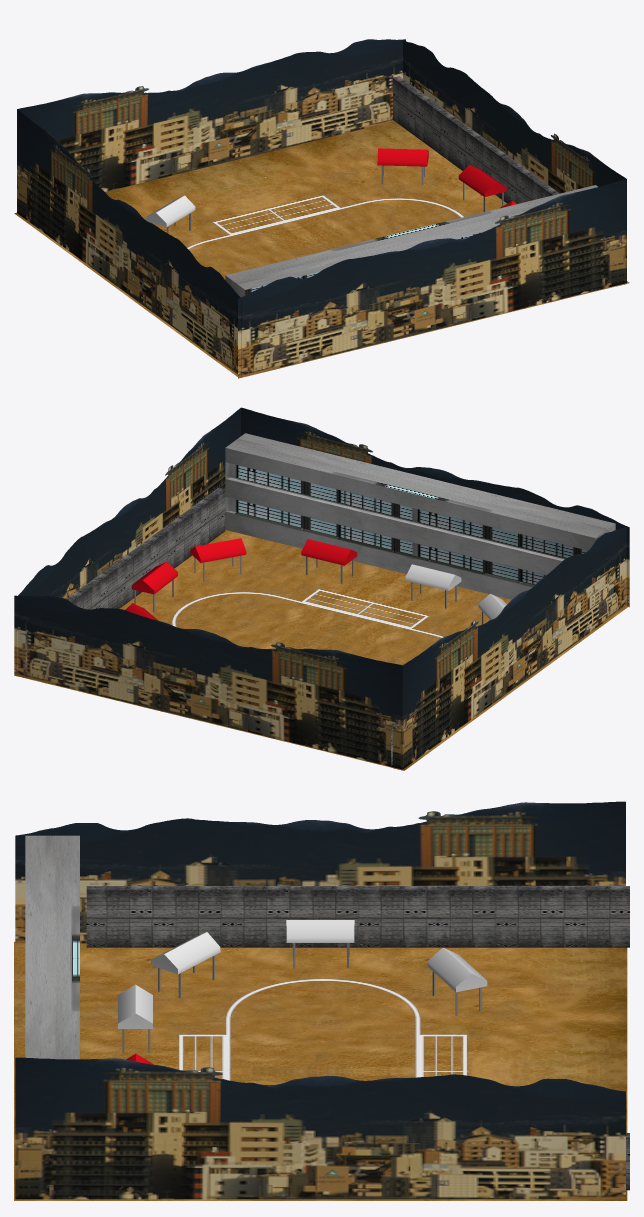
Rendered from stage.fbx.
The picture shows the model from 3 angles, top to bottom: view 1: azimuth 30°, elevation 25°; view 2: azimuth 150°, elevation 25°; view 3: azimuth 270°, elevation 25°; orthographic projection. The views are drawn at different scales.
Parts seen in each view (by area): view 1: polymsh2, suna, hei1, gakkou:gakkou, aka_tento4, aka_tento3, siro_tento7; view 2: polymsh2, gakkou:gakkou, suna, hei1, aka_tento1, aka_tento2, siro_tento4, aka_tento3; view 3: polymsh2, suna, hei1, gakkou:gakkou, siro_tento6, siro_tento7, siro_tento5, siro_tento4.
Part boxes in pixels (x1=…): polymsh2: x1=17, y1=39, x2=626, y2=378; suna: x1=14, y1=121, x2=629, y2=378; hei1: x1=393, y1=76, x2=559, y2=203; gakkou:gakkou: x1=225, y1=185, x2=597, y2=297; aka_tento4: x1=377, y1=148, x2=428, y2=185; aka_tento3: x1=458, y1=165, x2=506, y2=211; siro_tento7: x1=145, y1=195, x2=195, y2=233; polymsh2: x1=14, y1=407, x2=629, y2=770; gakkou:gakkou: x1=225, y1=433, x2=615, y2=599; suna: x1=14, y1=530, x2=628, y2=770; hei1: x1=19, y1=487, x2=398, y2=766; aka_tento1: x1=301, y1=539, x2=357, y2=583; aka_tento2: x1=190, y1=538, x2=246, y2=581; siro_tento4: x1=405, y1=564, x2=461, y2=608; aka_tento3: x1=131, y1=562, x2=177, y2=612; polymsh2: x1=15, y1=801, x2=625, y2=1199; suna: x1=14, y1=941, x2=627, y2=1200; hei1: x1=86, y1=886, x2=629, y2=1190; gakkou:gakkou: x1=25, y1=835, x2=79, y2=1059; siro_tento6: x1=151, y1=932, x2=220, y2=998; siro_tento7: x1=427, y1=947, x2=487, y2=1015; siro_tento5: x1=286, y1=920, x2=354, y2=968; siro_tento4: x1=118, y1=984, x2=152, y2=1053.
Size of the model in its own units: 93.57 by 24.04 by 93.65.
Materials: 3 (3 with a texture image).
